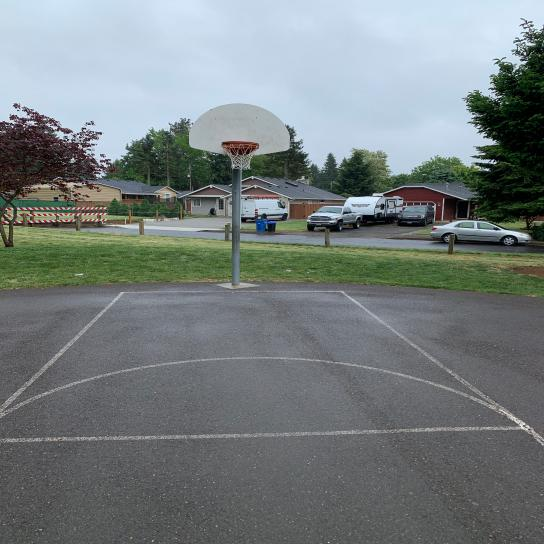basketball-hoop: (220, 140, 260, 170)
